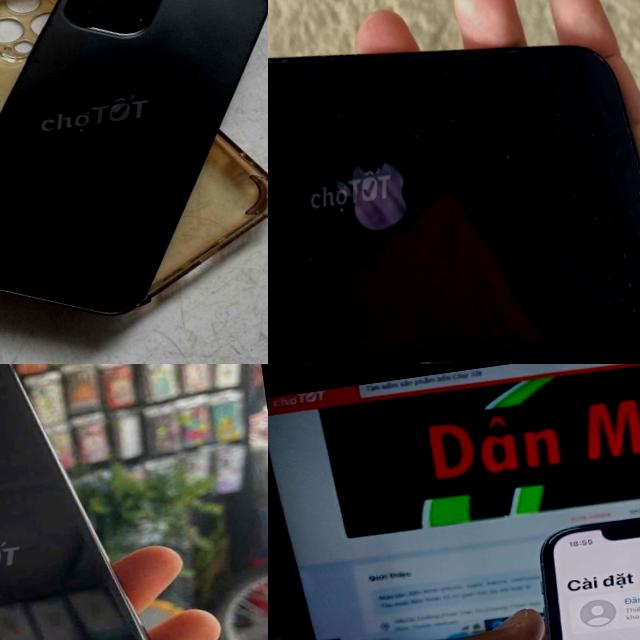gen_12_13: (268, 0, 640, 364), (0, 0, 268, 343)
gen_x_xs: (0, 364, 242, 640)
scratch: (556, 32, 640, 364), (397, 331, 489, 364)
